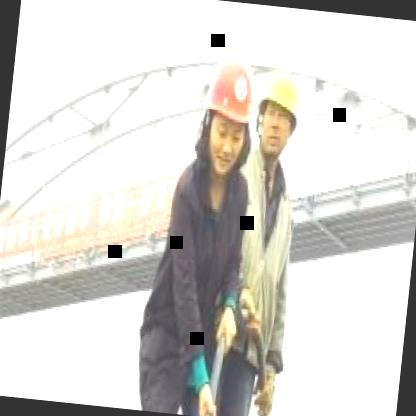helmet: (195, 45, 256, 174), (254, 60, 308, 166)
